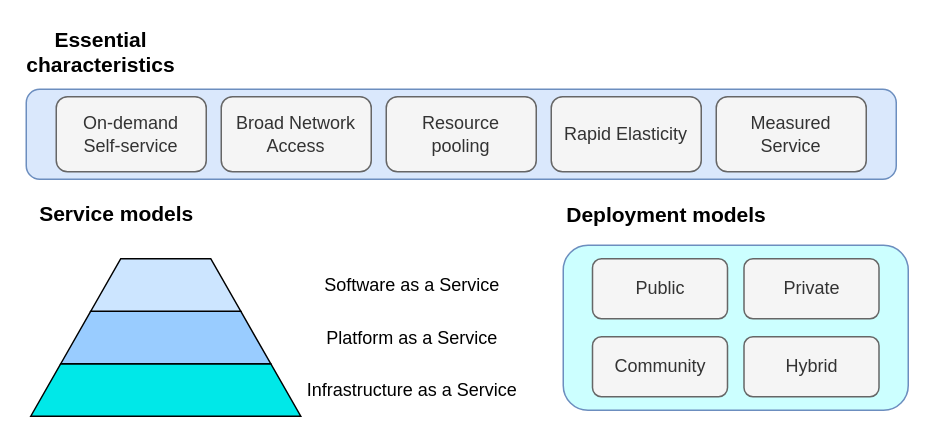
The diagram is 935 pixels wide and 443 high, and some of its shapes have lost their labels. The box of each missing label's shape, as (x1, y1, x2, y2) in pixels:
IaaS: (29, 362, 301, 416)
PaaS: (59, 310, 271, 364)
SaaS: (89, 257, 241, 311)
